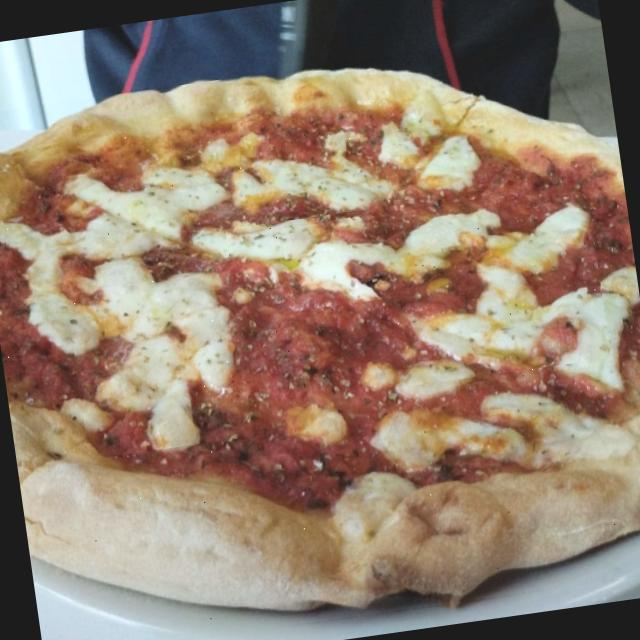cheese: (382, 202, 610, 386), (65, 266, 253, 460), (0, 158, 231, 300), (280, 199, 507, 312), (192, 130, 418, 232), (384, 130, 494, 204)
pizza: (0, 71, 640, 612)
